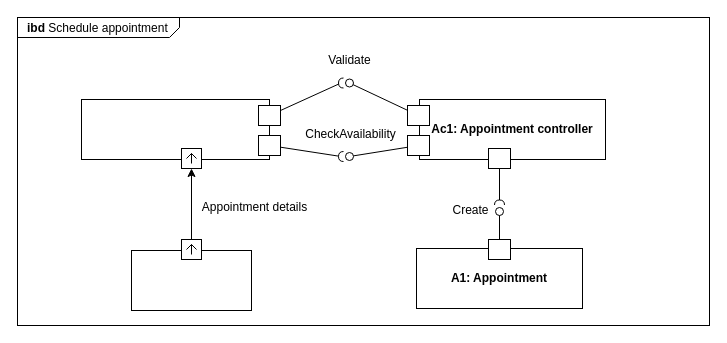
Image size: 727x343. Some labels were removed from this diagram. The box of each missing label's shape, as (x1, y1, x2, y2) in pixels:
Ad1: appointment details: (130, 250, 252, 310)
Sa1: Schedule Appointment: (80, 98, 270, 160)
